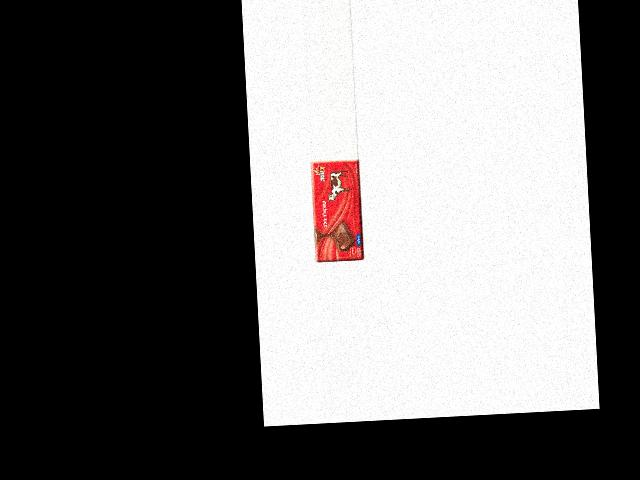chocolate: (310, 158, 364, 263)
